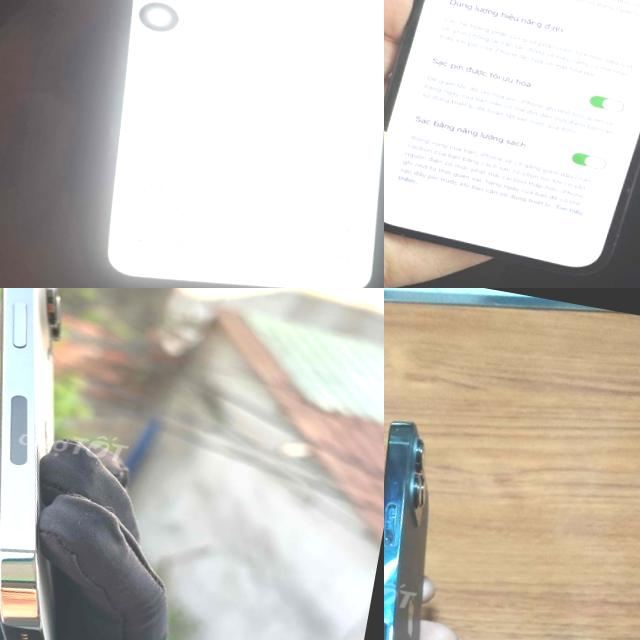gen_11: (61, 0, 384, 288)
gen_12_13: (384, 0, 640, 288), (384, 402, 482, 640)
gen_14: (0, 288, 160, 640)
